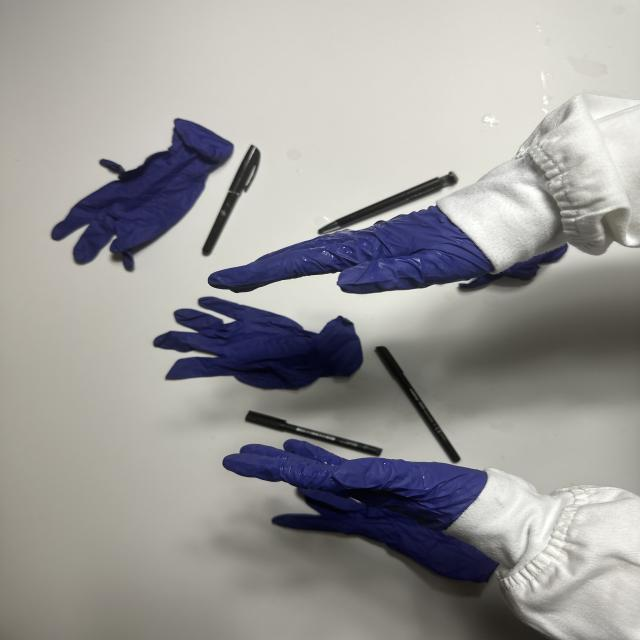gloves_contaminated: (209, 207, 496, 294), (223, 440, 487, 530)
